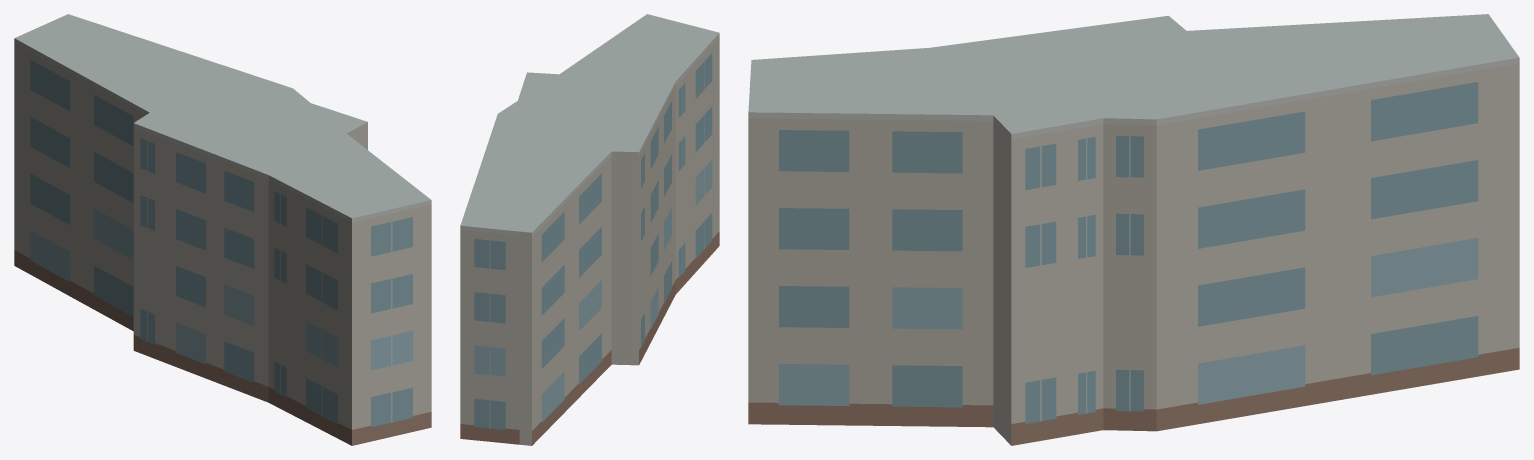
File: survey-upis-32469992.glb
3 renders of one model, left to right at view 1: azimuth 30°, elevation 25°; view 2: azimuth 150°, elevation 25°; view 3: azimuth 270°, elevation 25°, orthographic. The views are drawn at different scales.
Parts seen in each view (by area): view 1: survey-upis-32469992.tmp; view 2: survey-upis-32469992.tmp; view 3: survey-upis-32469992.tmp.
Boxes of the visible parts, x1,y1,x2,y2 form: survey-upis-32469992.tmp: (14,14,431,445); survey-upis-32469992.tmp: (460,14,719,445); survey-upis-32469992.tmp: (748,14,1519,445).
Bounding box in the file's own units: 10.86 × 13.15 × 29.48.
